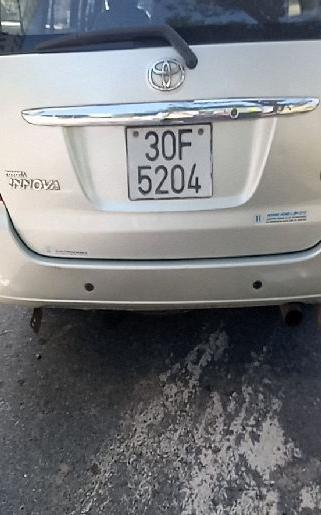Plate-iWeP: (123, 118, 218, 201)
